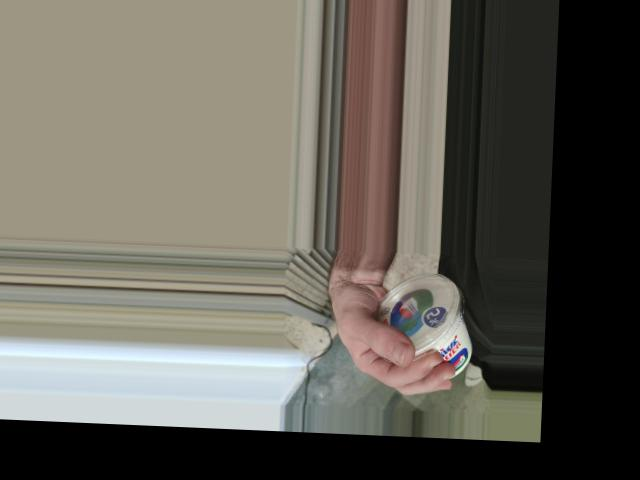cotage: (376, 267, 475, 383)
